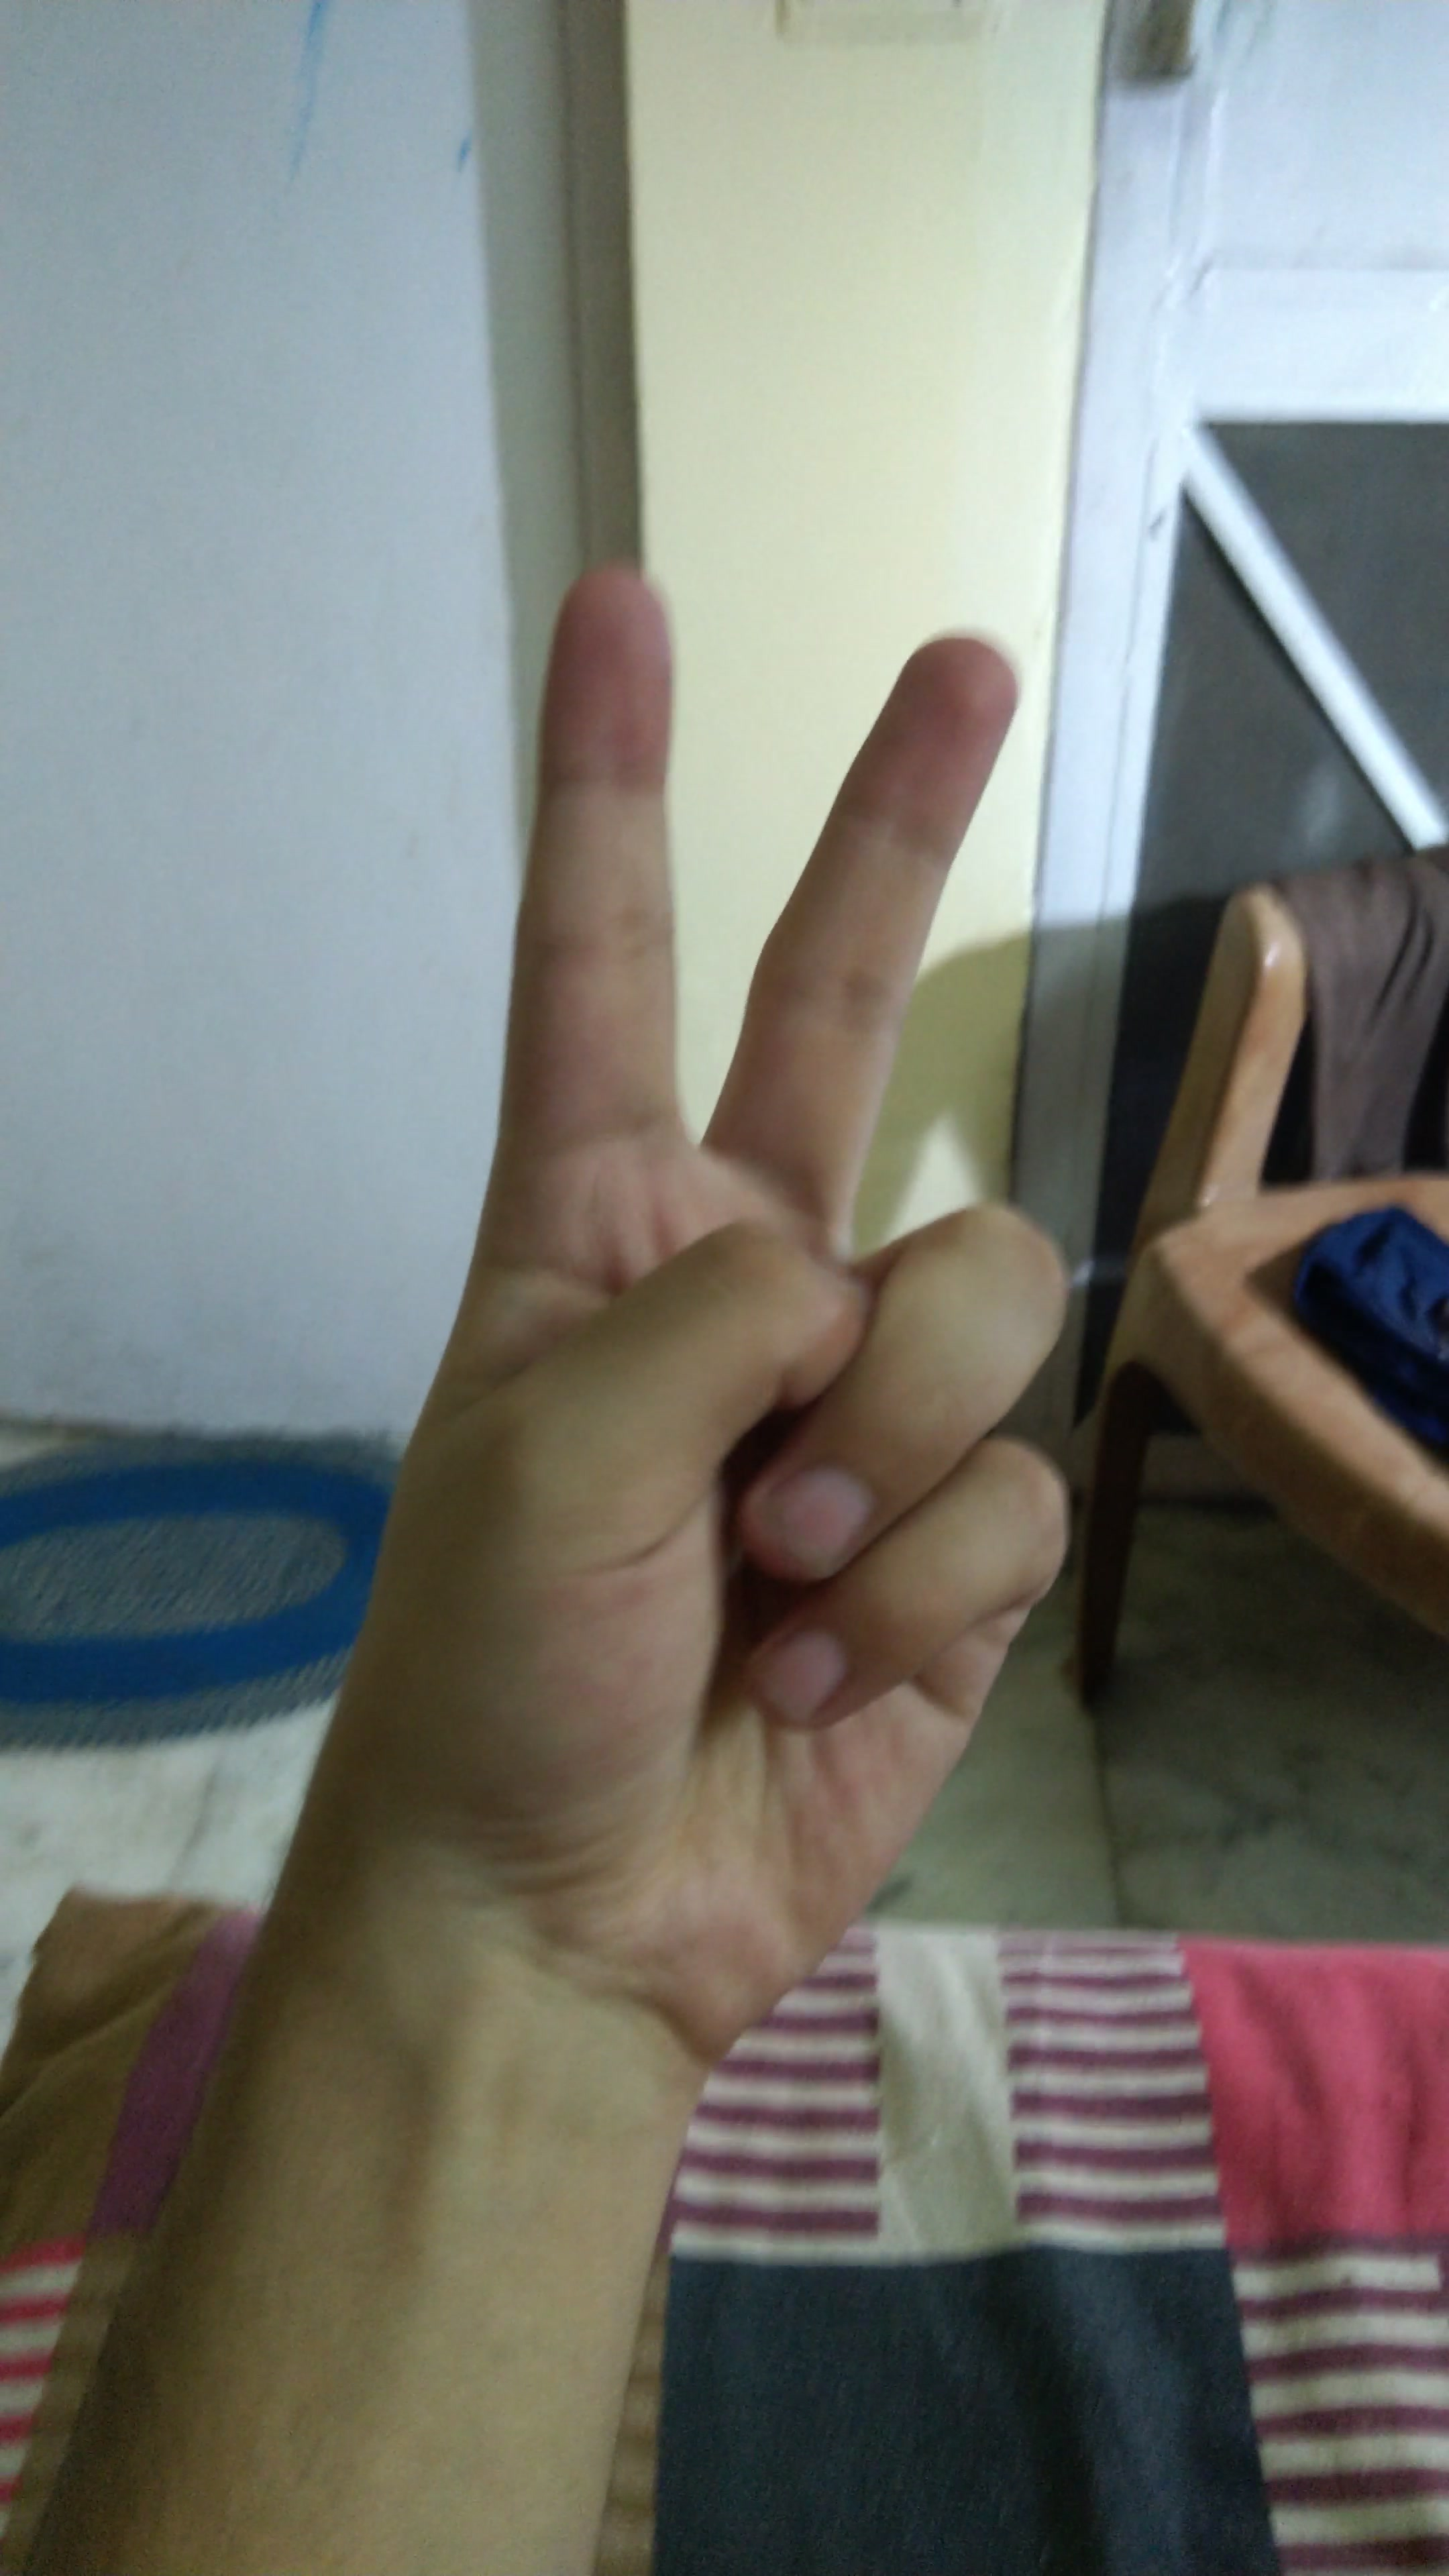hand: (255, 541, 1173, 2097)
